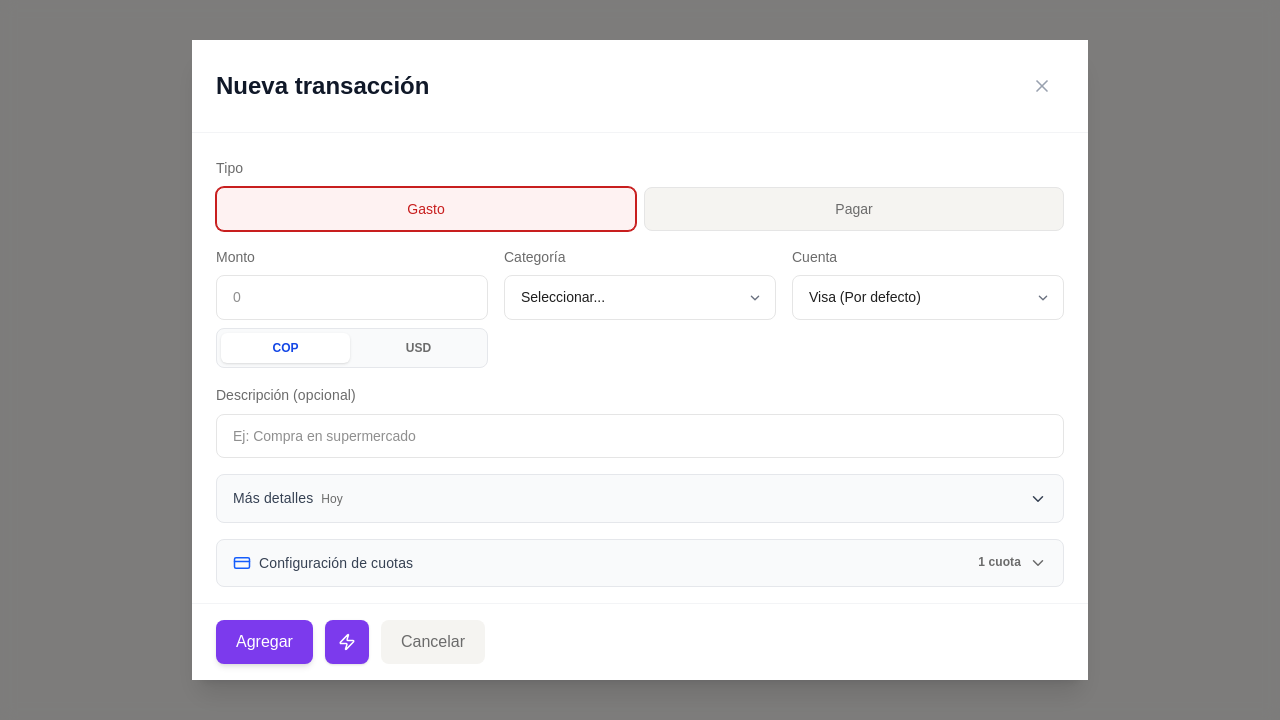
TransactionForm compacto › pliega la configuración de cuotas hasta que se necesita
Expected: the field labelled "Número de cuotas" is not shown
What coordinates should you click on to do the following:
click the button "Configuración de cuotas 1 cuota"
I would click on:
 (336, 563)
Its box is 217,540 -> 1063,586.
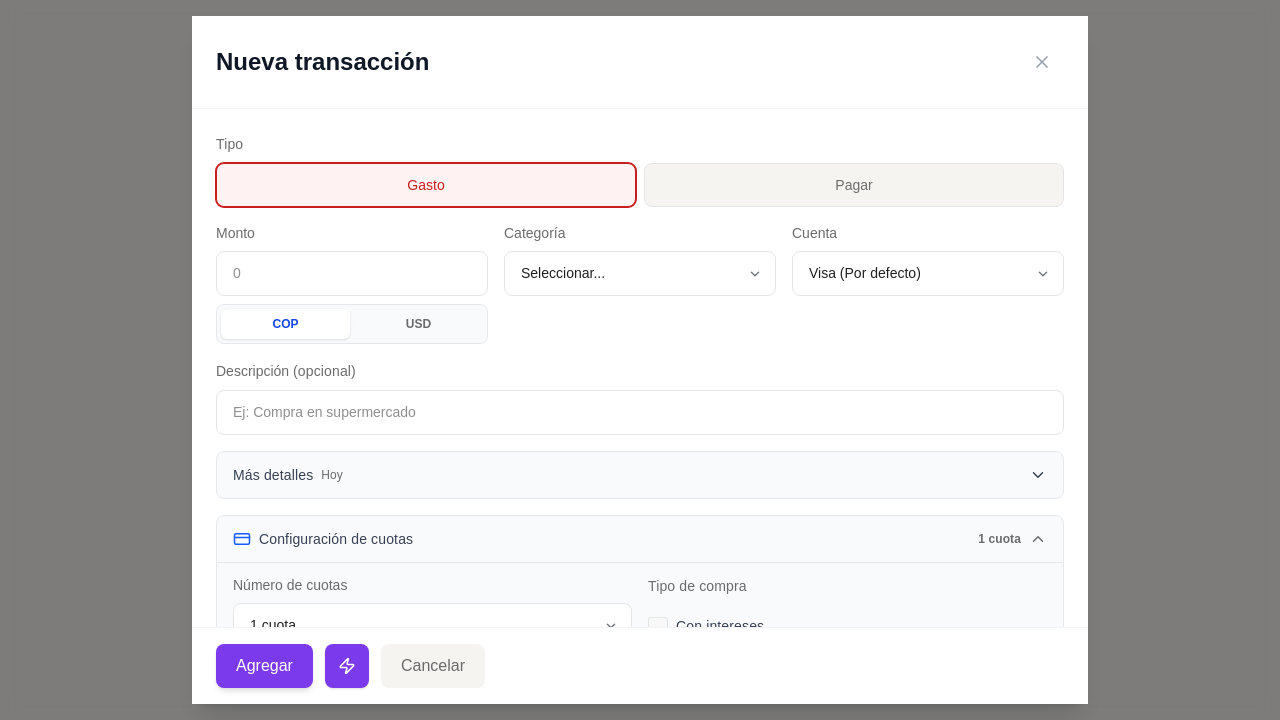
Expected: the button "Configuración de cuotas 1 cuota" is expanded, 217,516 -> 1063,562
Expected: the dropdown labelled "Número de cuotas" is shown, 233,603 -> 632,648
